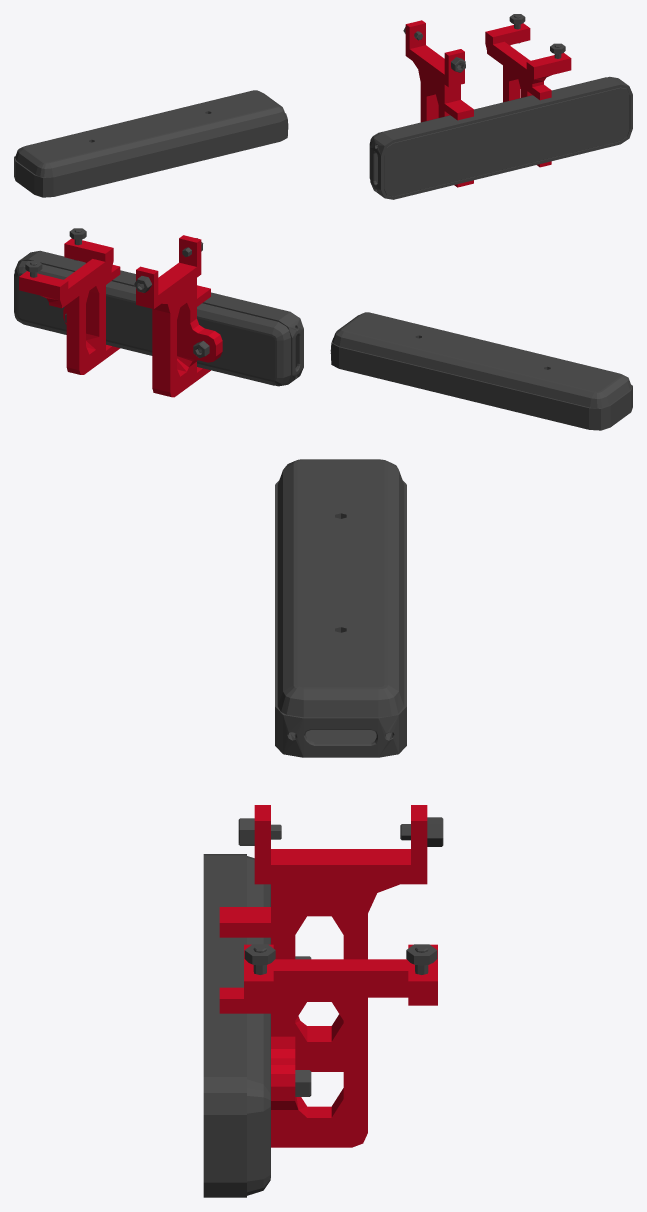
The model's file is realsense_t265_unit.dae.
3 views of the same model, one above another, from view 1: azimuth 30°, elevation 25°; view 2: azimuth 150°, elevation 25°; view 3: azimuth 270°, elevation 25° (orthographic). The views are drawn at different scales.
Visible parts, largest first — view 1: Realsense_T265_Unit_Black, Realsense_T265_Unit_Red; view 2: Realsense_T265_Unit_Black, Realsense_T265_Unit_Red; view 3: Realsense_T265_Unit_Black, Realsense_T265_Unit_Red.
Part boxes in pixels (x1,y1,x2,y2): Realsense_T265_Unit_Black: (14,14,632,199); Realsense_T265_Unit_Red: (405,20,571,187); Realsense_T265_Unit_Black: (14,228,632,430); Realsense_T265_Unit_Red: (19,235,222,397); Realsense_T265_Unit_Black: (203,459,443,1197); Realsense_T265_Unit_Red: (219,805,437,1147).
Size of the model in its own units: 0.246 by 0.0445 by 0.0514.
